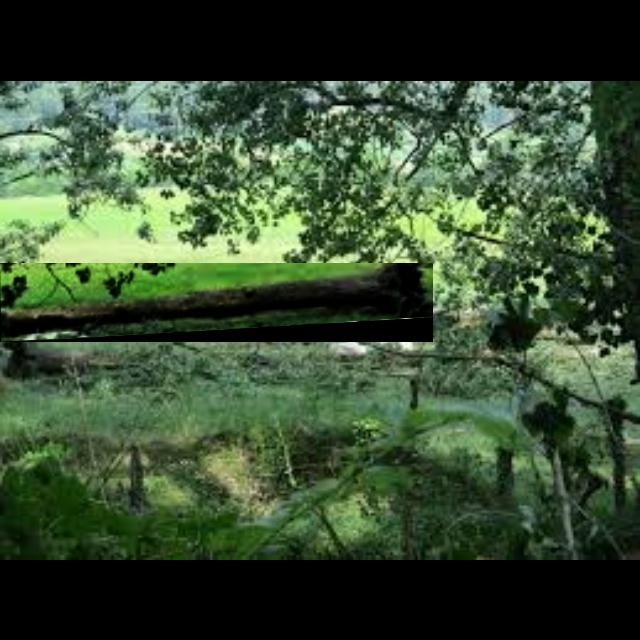Fallen Tree: (0, 263, 434, 343)
